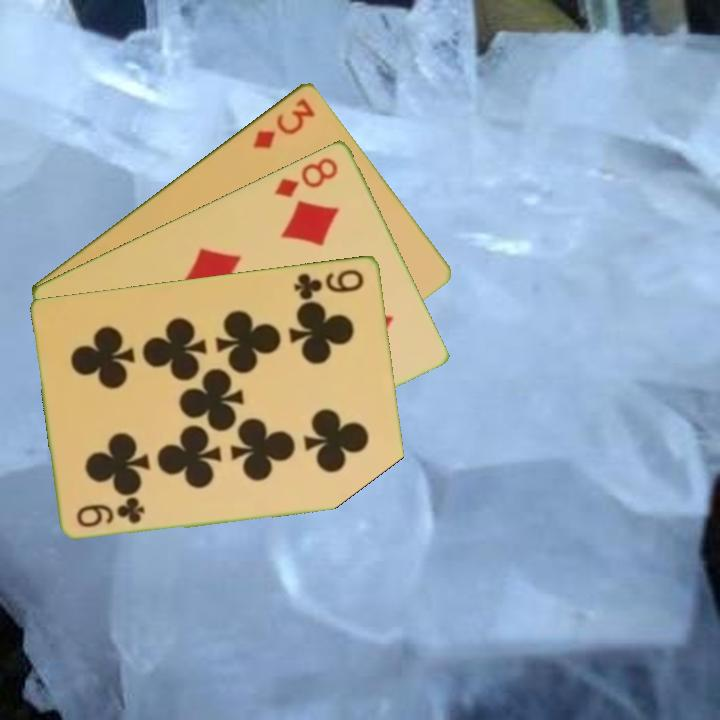3d: (249, 94, 318, 151)
8d: (271, 153, 341, 200)
9c: (291, 265, 367, 302), (73, 496, 148, 530)
